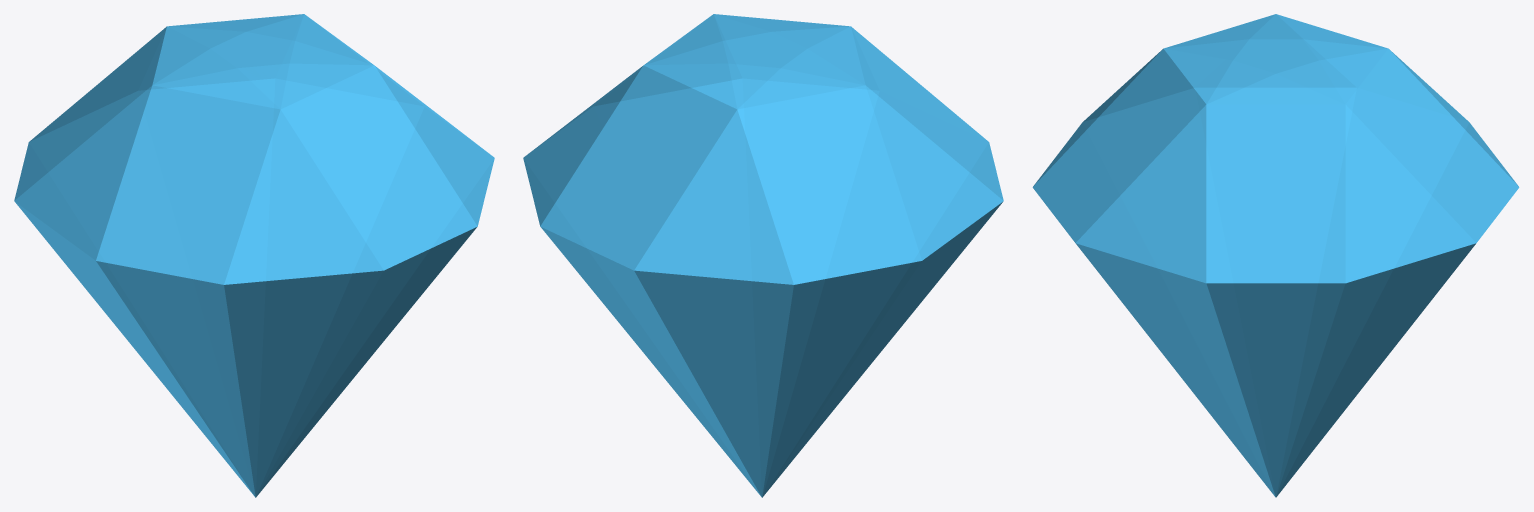
File: diamonds.fbx
3 views of the same model, side by side, from view 1: azimuth 30°, elevation 25°; view 2: azimuth 150°, elevation 25°; view 3: azimuth 270°, elevation 25° (orthographic).
Visible parts, largest first — view 1: Icosphere.006; view 2: Icosphere.006; view 3: Icosphere.006.
Boxes of the visible parts, bbox=[...] form: Icosphere.006: bbox=[14, 14, 494, 497]; Icosphere.006: bbox=[523, 14, 1003, 497]; Icosphere.006: bbox=[1032, 14, 1519, 497].
Size of the model in its own units: 146 by 154 by 153.
